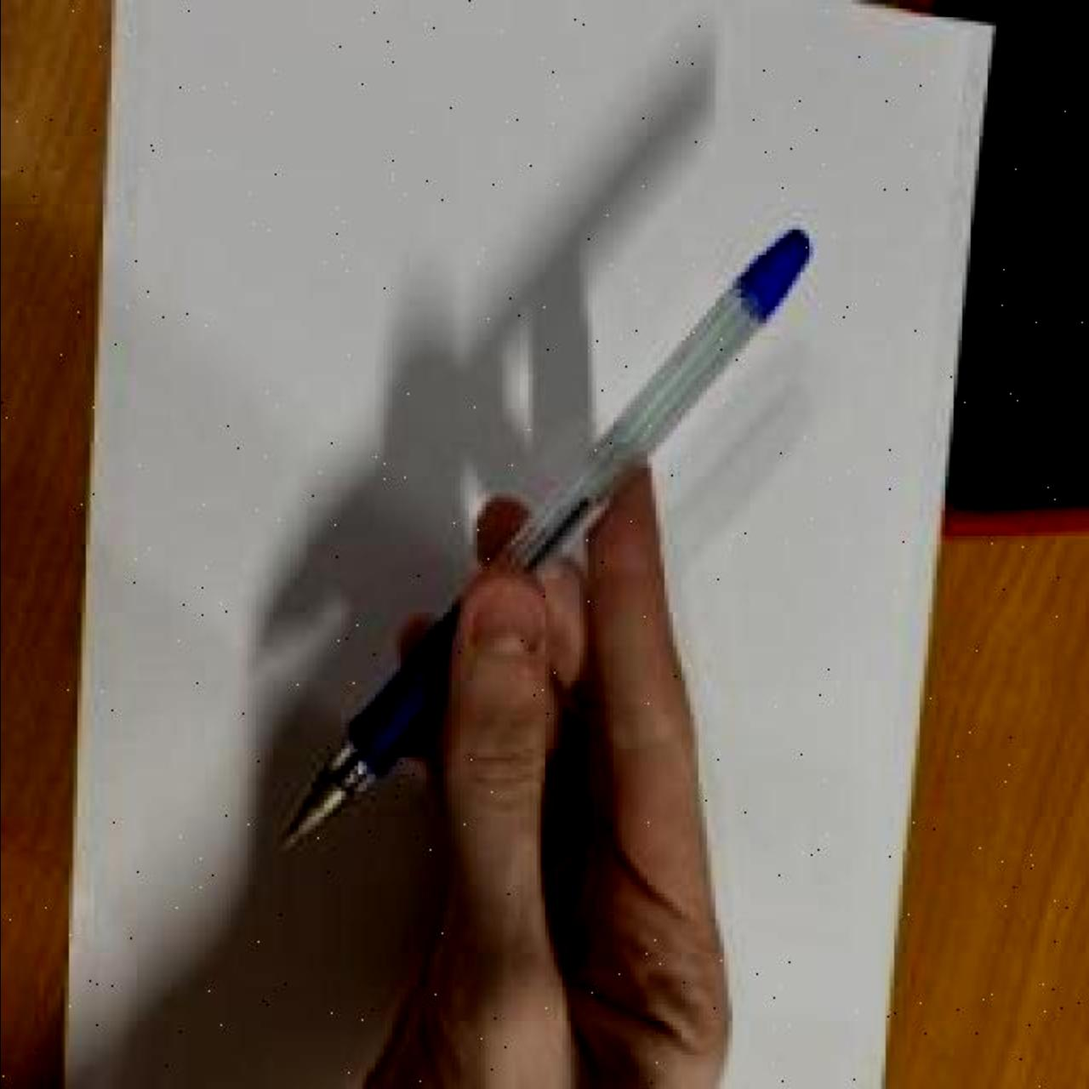pen: (276, 225, 812, 846)
